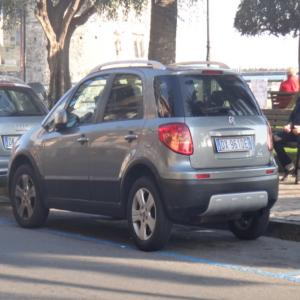Vehicle-registration-plate: (216, 137, 251, 153), (5, 137, 21, 151)
